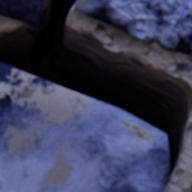brick: (0, 70, 167, 191)
broken_brick: (74, 0, 191, 56), (0, 0, 42, 26)
crack: (0, 0, 191, 191)
